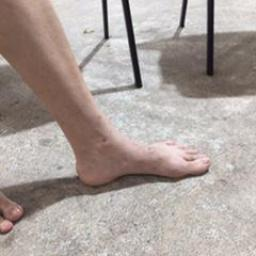Medial View -Left Foot-: (61, 113, 213, 198)
